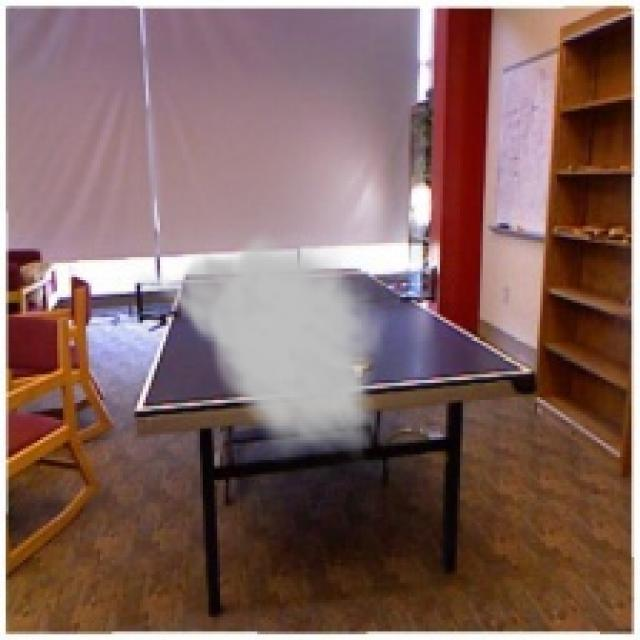Smoke: (132, 225, 388, 466)
